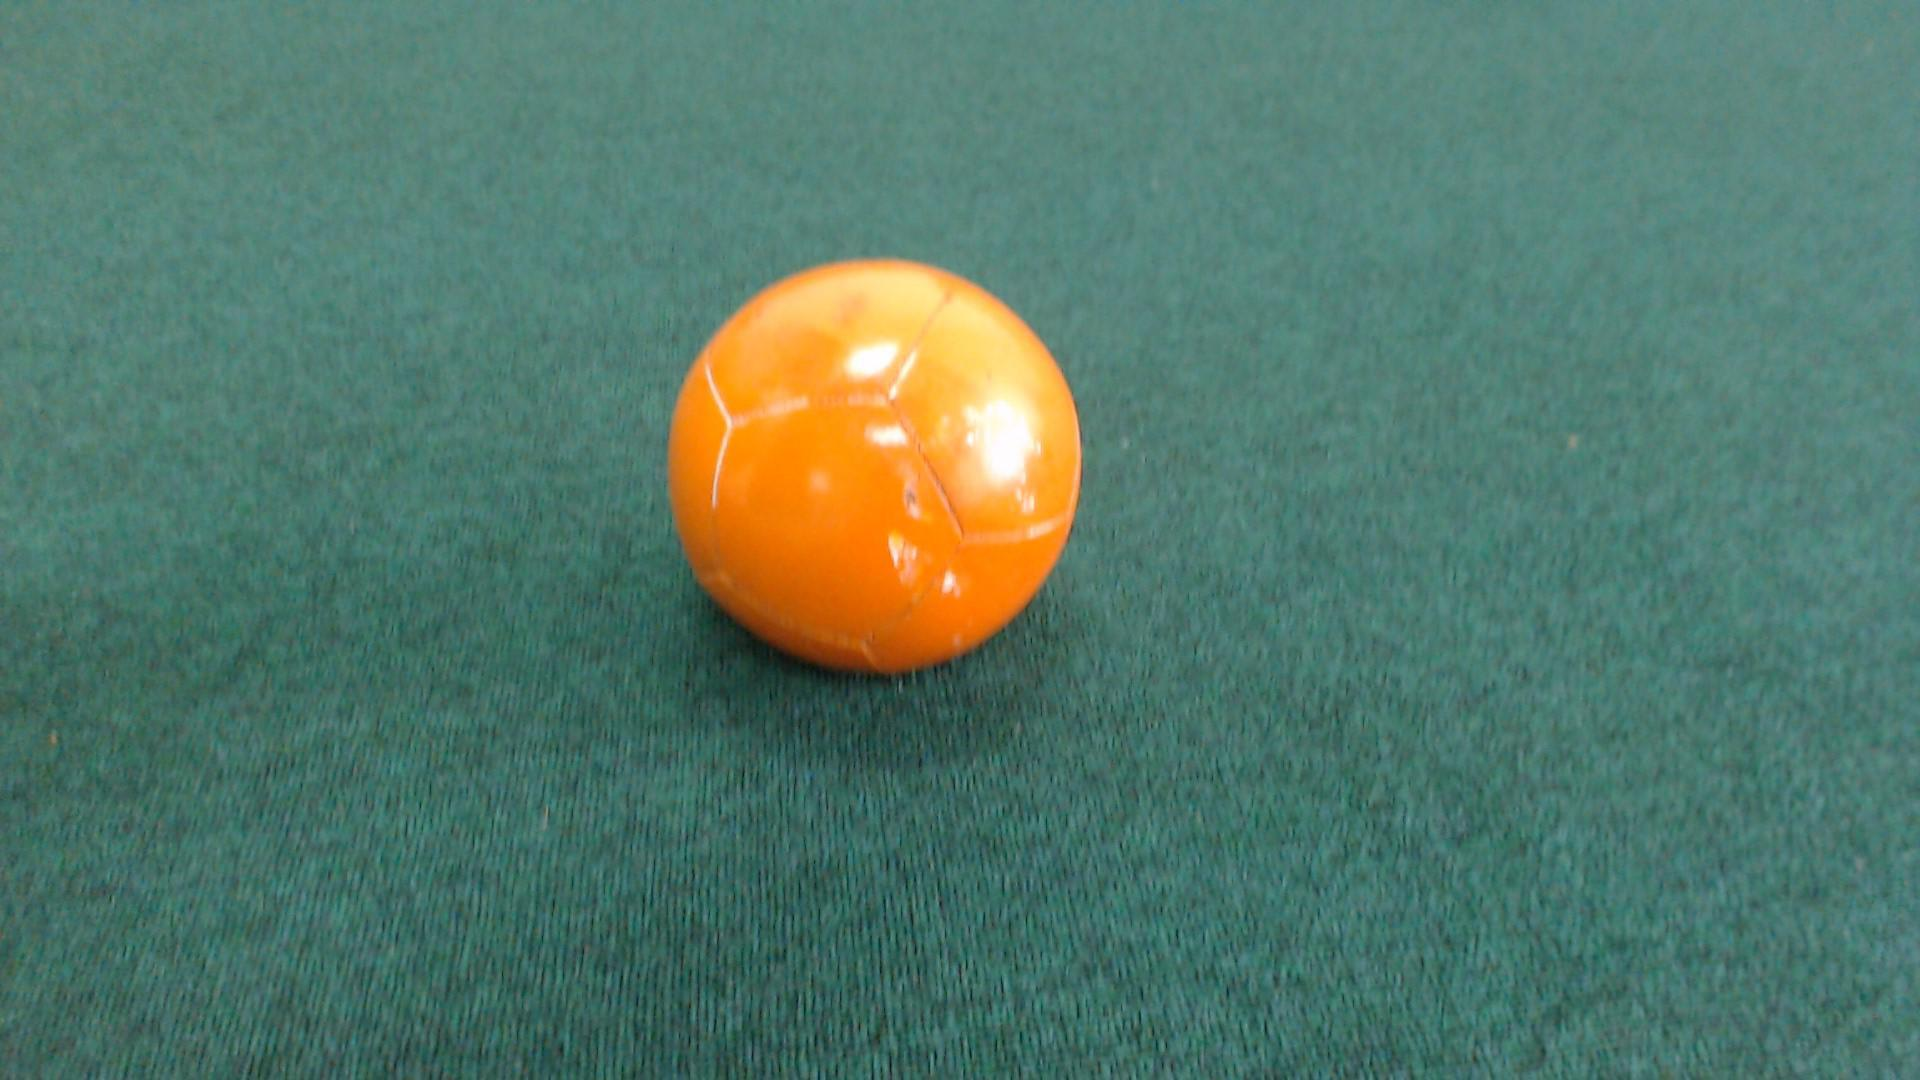bola: (612, 227, 1105, 717)
